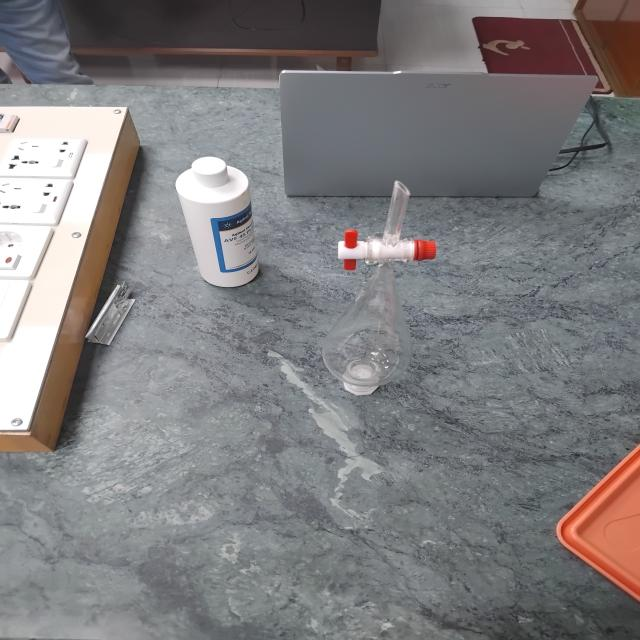Separating_Funnel: (304, 142, 468, 434)
